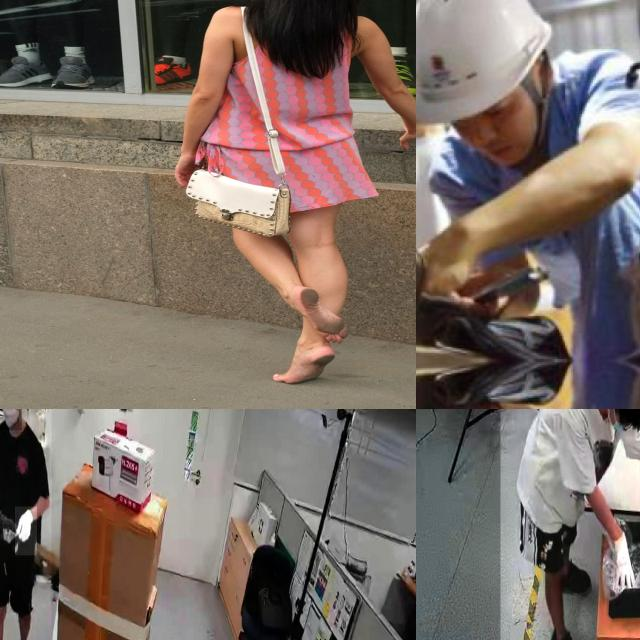Barefoots: (295, 286, 349, 344), (273, 346, 335, 384)
No_Ear-Protection: (537, 52, 555, 95)
No_Glasses: (454, 93, 518, 135)
face_mask: (610, 409, 637, 444), (0, 409, 22, 431)
face_nomask: (465, 109, 538, 166)
hand_glove: (416, 0, 552, 122), (613, 520, 637, 598), (15, 506, 37, 556)
hand_noglove: (425, 221, 470, 293)
person: (500, 409, 640, 640), (0, 409, 52, 640)
shoes: (551, 554, 594, 602), (547, 619, 590, 640)
